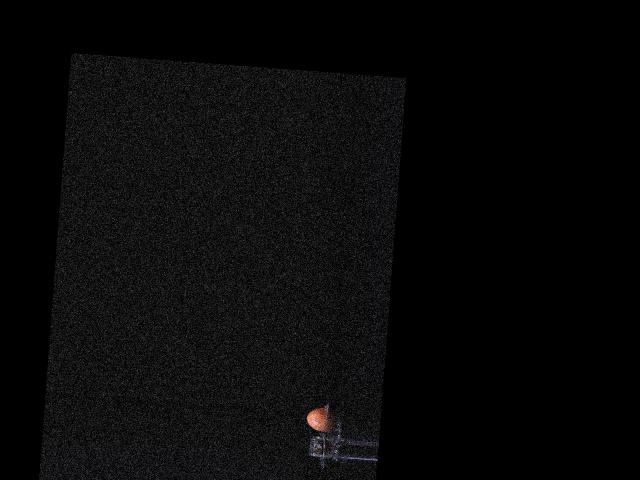egg: (306, 405, 339, 432)
